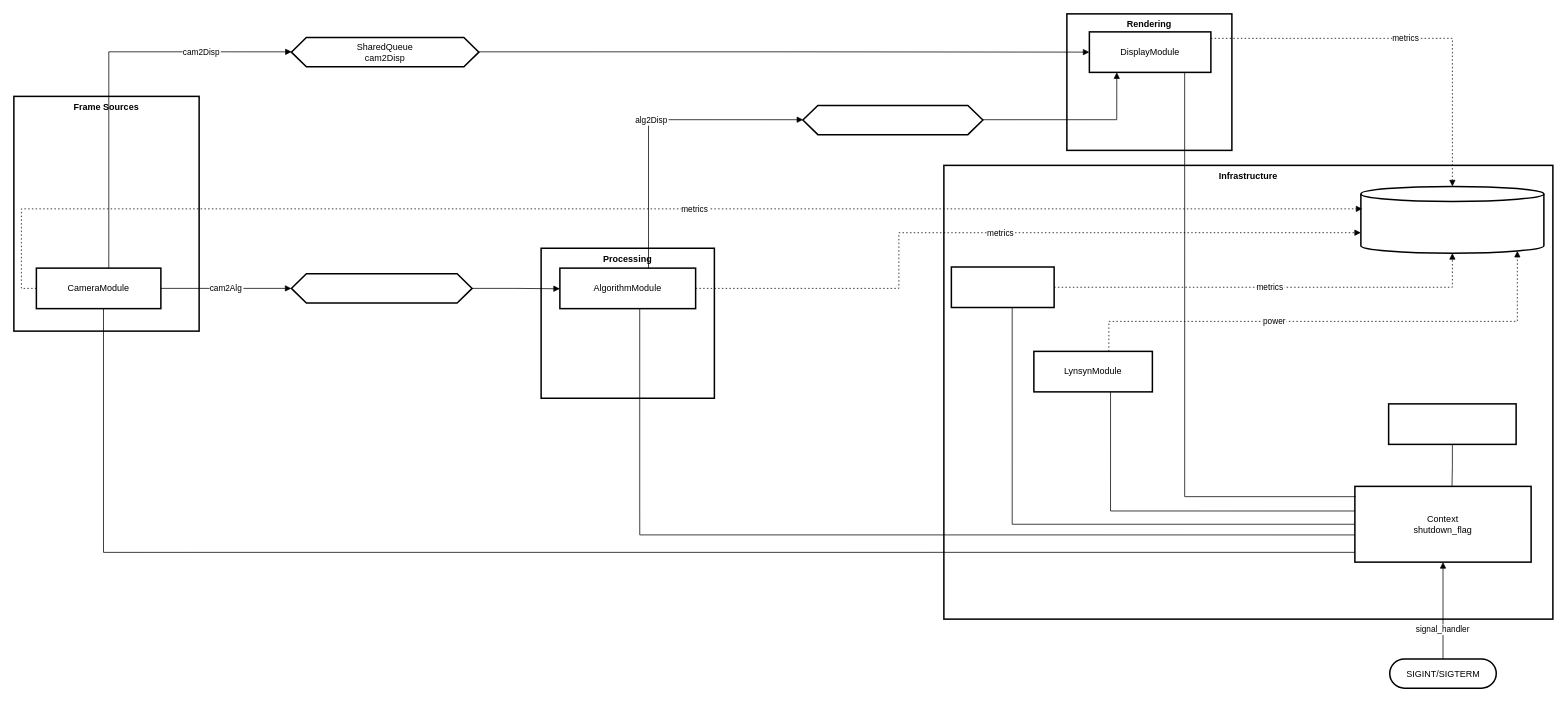
Some shapes in this 1566 by 701 pixel diagram are drawn without their labels. The centre of each missing label's shape, as x and y in pixels:
SharedQueue alg2Disp: the point at 892,119
SharedQueue cam2Alg: the point at 381,288
SoCModule: the point at 1002,287
SystemMetricsAggregator V3_2: the point at 1452,219
ThreadManager: the point at 1452,424
